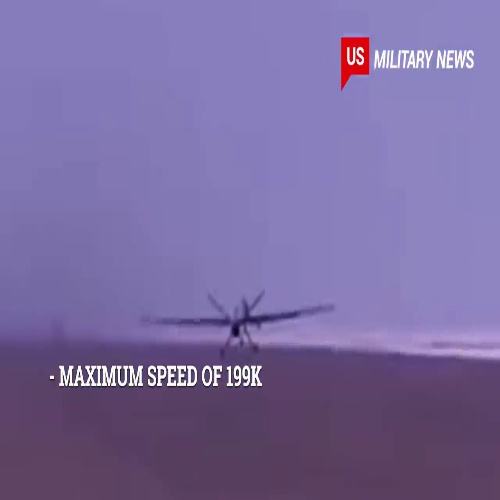uav81: (137, 287, 338, 358)
